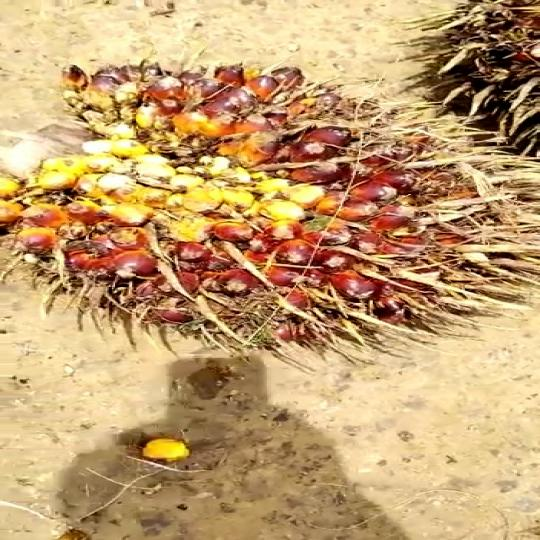masak: (0, 53, 540, 348)
